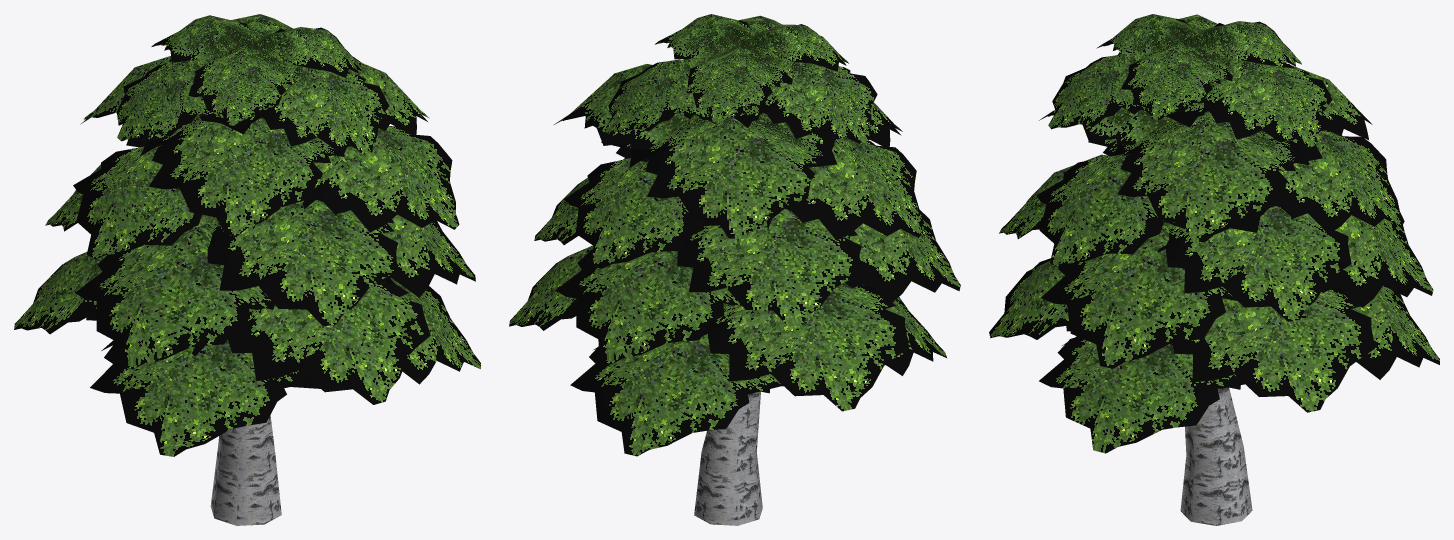
The model's file is drop_objects.gltf.
3 views of the same model, side by side, from view 1: azimuth 30°, elevation 25°; view 2: azimuth 150°, elevation 25°; view 3: azimuth 270°, elevation 25° (orthographic). The views are drawn at different scales.
Parts seen in each view (by area): view 1: tree; view 2: tree; view 3: tree.
Boxes of the visible parts, <box> form: tree: <box>14,14,480,525</box>; tree: <box>509,14,960,525</box>; tree: <box>989,14,1439,525</box>.
Bounding box in the file's own units: 11.79 × 14.67 × 12.51.
Materials: 2 (2 with a texture image).
